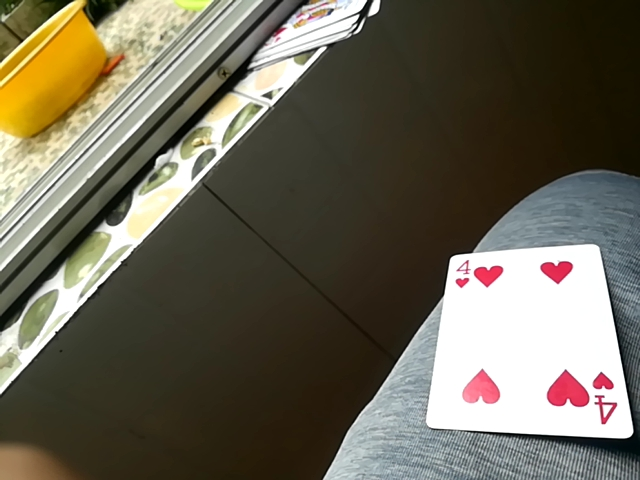hx 4: (428, 244, 635, 440)
